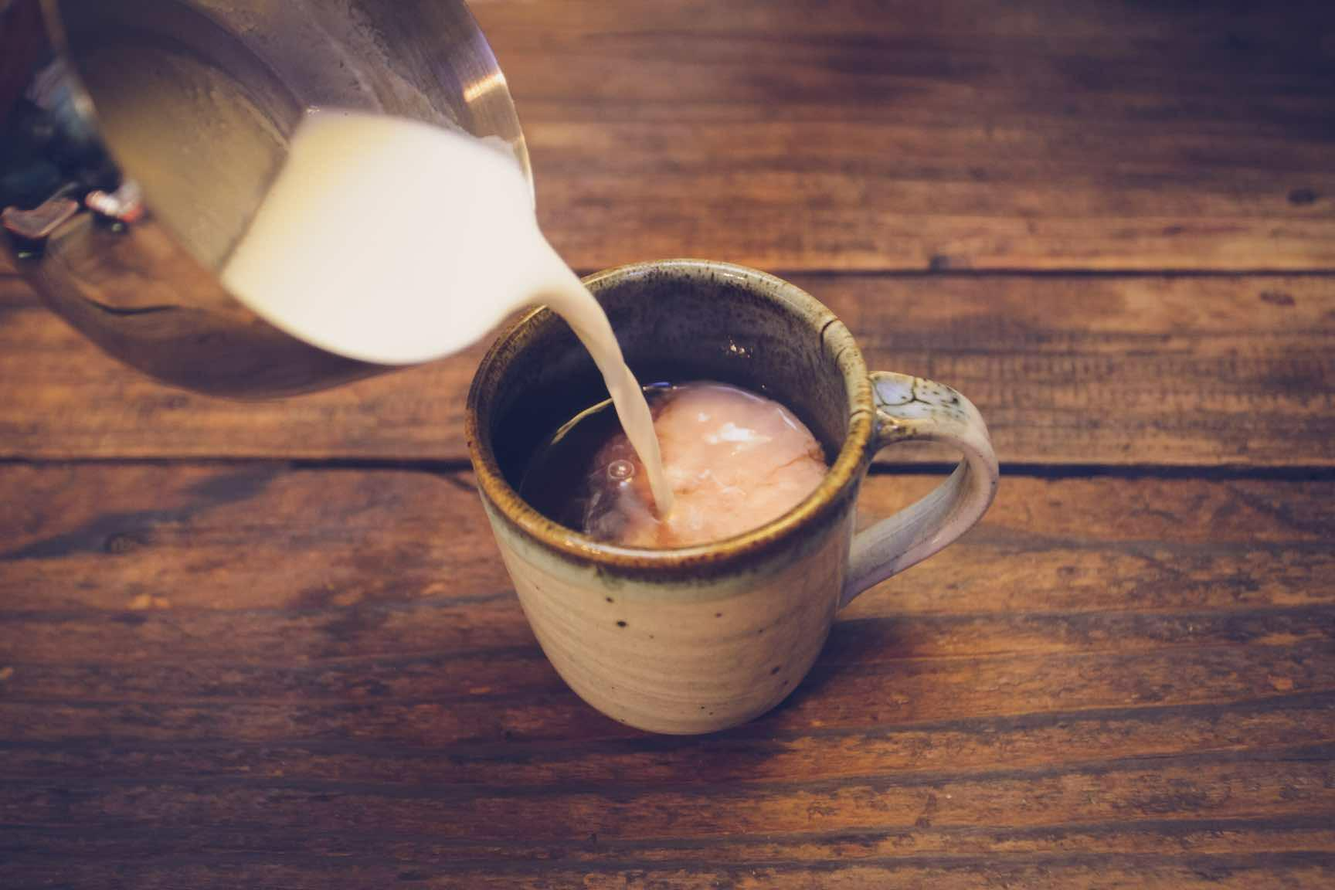Chai: (225, 105, 700, 535), (531, 378, 825, 544)
